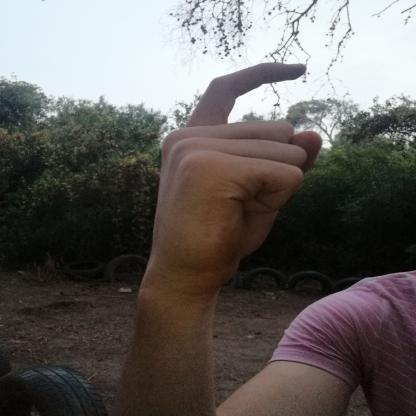RAA: (135, 56, 337, 292)
